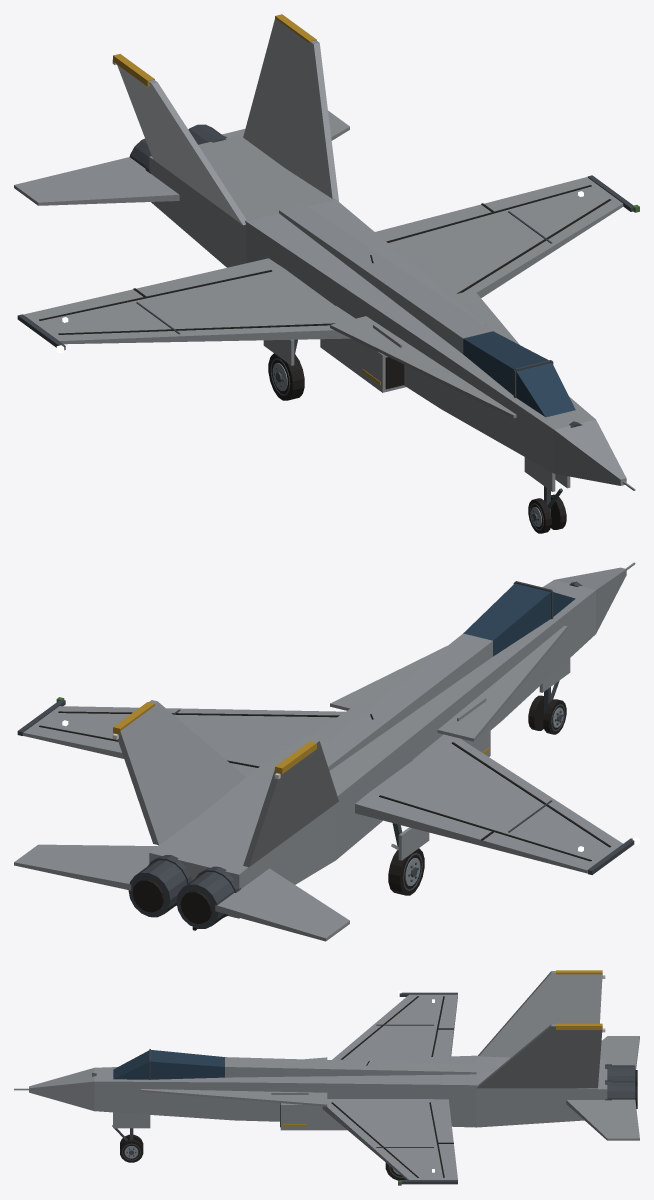
The picture shows the model from 3 angles, top to bottom: view 1: azimuth 30°, elevation 25°; view 2: azimuth 150°, elevation 25°; view 3: azimuth 270°, elevation 25°; orthographic projection. The views are drawn at different scales.
Visible parts, largest first — view 1: fuselage, wings, tails, gear; view 2: fuselage, wings, tails, gear; view 3: fuselage, tails, wings, gear.
Boxes of the visible parts, left/top/right/bottom form: fuselage: left=129, top=124, right=635, bottom=490; wings: left=17, top=175, right=639, bottom=353; tails: left=14, top=14, right=349, bottom=225; gear: left=263, top=339, right=570, bottom=533; fuselage: left=128, top=562, right=635, bottom=930; wings: left=17, top=697, right=639, bottom=874; tails: left=14, top=700, right=349, bottom=941; gear: left=388, top=658, right=570, bottom=895; fuselage: left=14, top=1049, right=637, bottom=1130; tails: left=476, top=970, right=639, bottom=1140; wings: left=322, top=991, right=457, bottom=1185; gear: left=112, top=1112, right=405, bottom=1180.
Size of what is drawn, in the model's own units: 12.1 by 4.76 by 16.77.
